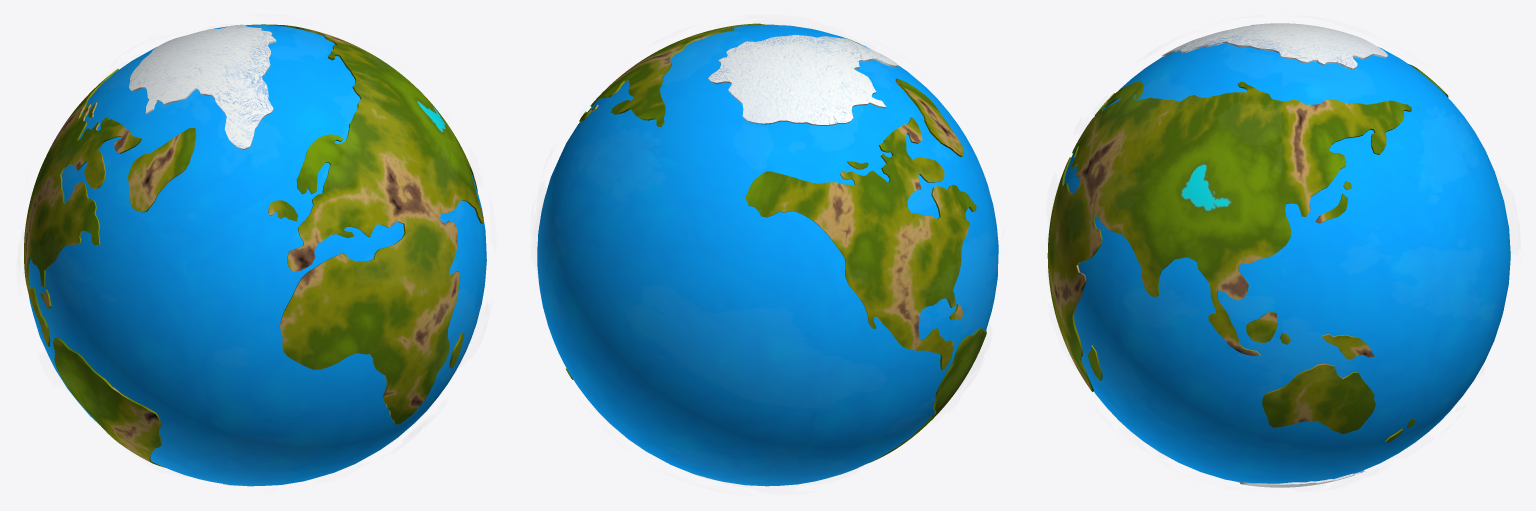
Rendered from Earth.glb.
3 renders of one model, left to right at view 1: azimuth 30°, elevation 25°; view 2: azimuth 150°, elevation 25°; view 3: azimuth 270°, elevation 25°, orthographic.
Visible parts, largest first — view 1: Clouds_2_Clouds_1; view 2: Clouds_2_Clouds_1; view 3: Clouds_2_Clouds_1.
Boxes of the visible parts, left/top/right/bottom form: Clouds_2_Clouds_1: left=24, top=24, right=486, bottom=486; Clouds_2_Clouds_1: left=537, top=23, right=998, bottom=486; Clouds_2_Clouds_1: left=1047, top=23, right=1510, bottom=487.
Size of the model in its own units: 42.66 by 42.66 by 42.68.
Materials: 4 (3 with a texture image).
